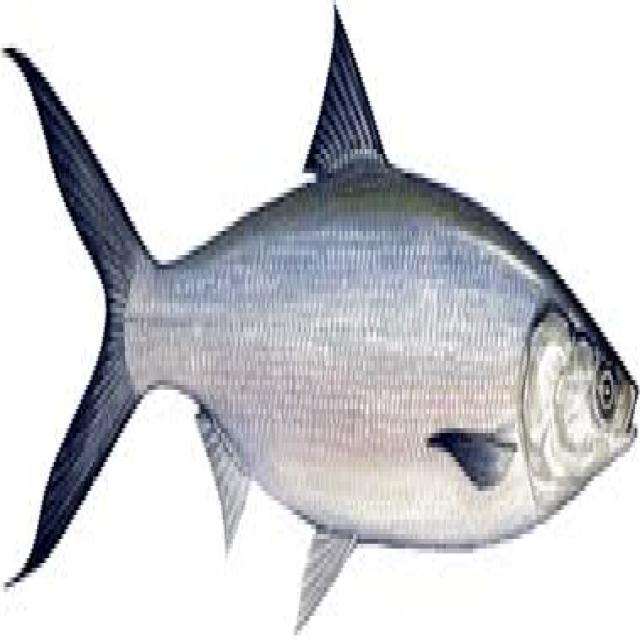Bangus: (0, 11, 640, 634)
